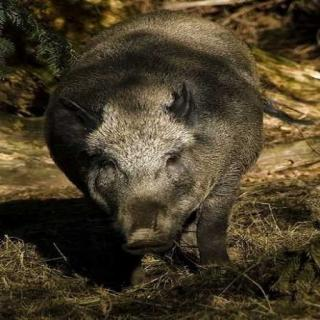Pig: (65, 6, 264, 261)
